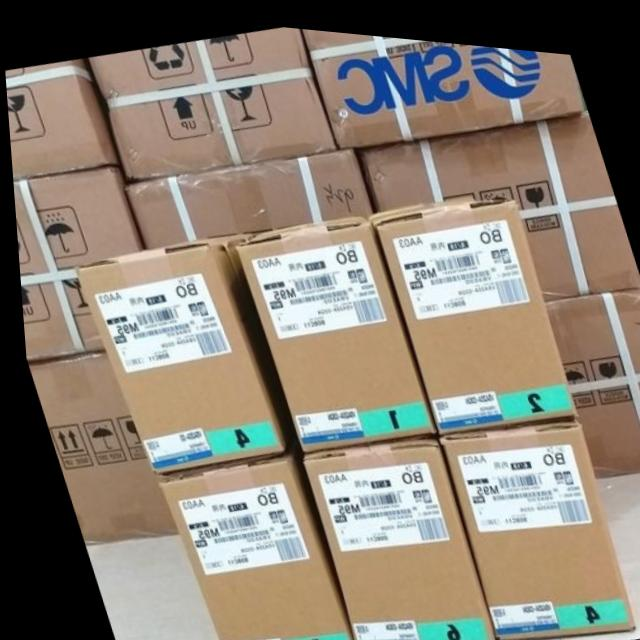box: (354, 98, 640, 290), (70, 238, 280, 477), (365, 185, 572, 426), (229, 209, 431, 445), (433, 406, 629, 633), (297, 431, 487, 640), (86, 22, 335, 178), (153, 447, 345, 640), (302, 23, 583, 145), (23, 350, 170, 544), (121, 141, 372, 246), (10, 163, 138, 362), (541, 274, 640, 467), (4, 57, 118, 180)
